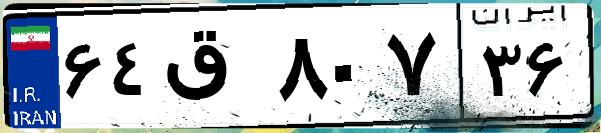0: (330, 28, 385, 110)
3: (475, 38, 525, 113)
4: (110, 28, 158, 98)
6: (57, 26, 110, 100), (525, 38, 570, 115)
7: (385, 28, 445, 110)
8: (270, 28, 330, 110)
ق: (158, 20, 270, 120)
